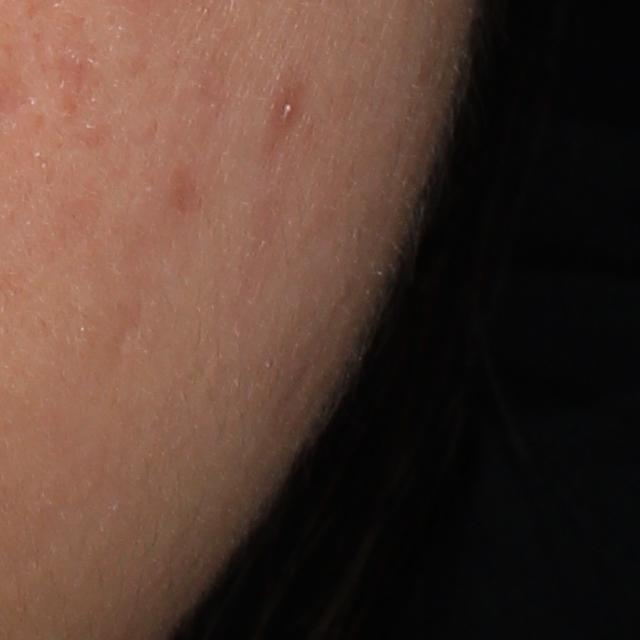papule: (267, 81, 303, 135)
